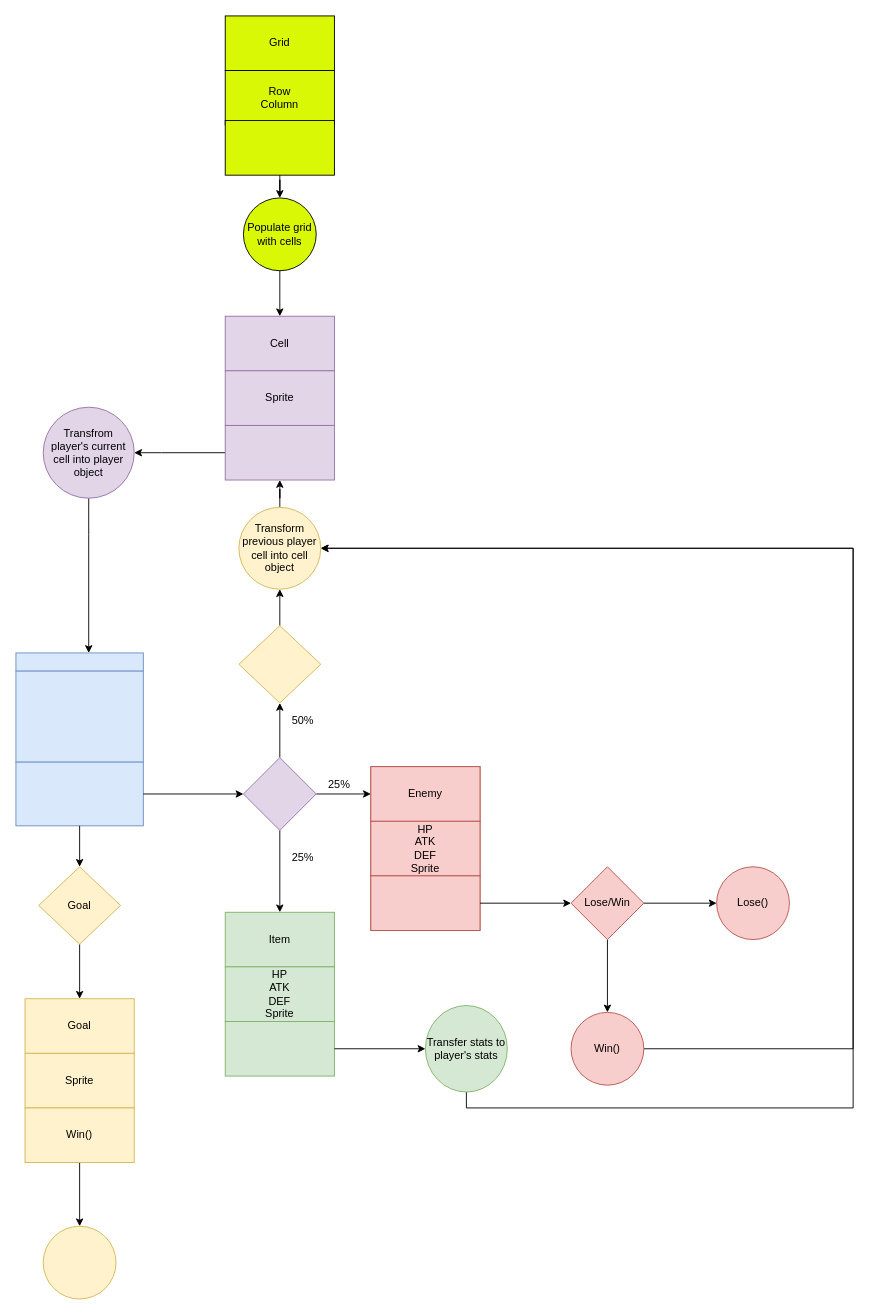
Image size: 876x1315. Some labels were removed from this diagram. Each missing label, with the centre of its shape:
"Fight(Player, this)" goes at [425,902].
"find()" goes at [279,793].
"HP ATK DEF Items Sprite" goes at [79,716].
"Move( left, right, up, down)" goes at [79,793].
"Nothing" goes at [279,664].
"Player" goes at [79,661].
"Player wins the game" goes at [79,1262].
"PopulateGrid( this.row this.column)" goes at [279,147].
"Transfer( this.HP, this.ATK, this.DEF)" goes at [279,1048].
"Transform( previous, current)" goes at [279,452].
